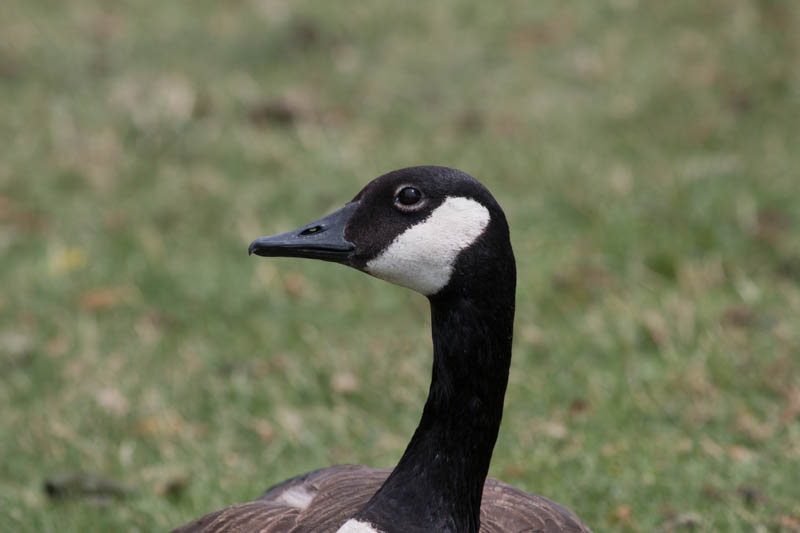goose-head: (248, 164, 516, 299)
